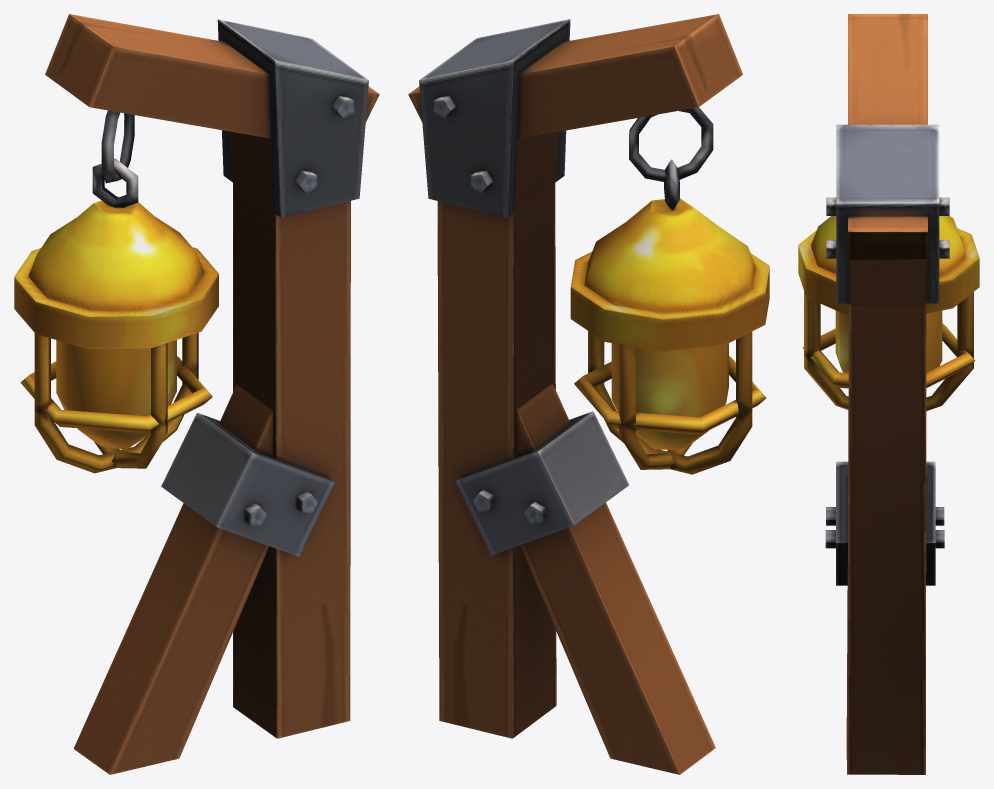
File: lantern.fbx
The picture shows the model from 3 angles, left to right: view 1: azimuth 30°, elevation 25°; view 2: azimuth 150°, elevation 25°; view 3: azimuth 270°, elevation 25°; orthographic projection. The views are drawn at different scales.
Visible parts, largest first — view 1: lantern; view 2: lantern; view 3: lantern.
Boxes of the visible parts, x1=… form: lantern: x1=14, y1=14, x2=379, y2=774; lantern: x1=408, y1=14, x2=769, y2=774; lantern: x1=798, y1=14, x2=979, y2=774.
Size of the model in its own units: 86.75 by 185 by 46.22.
